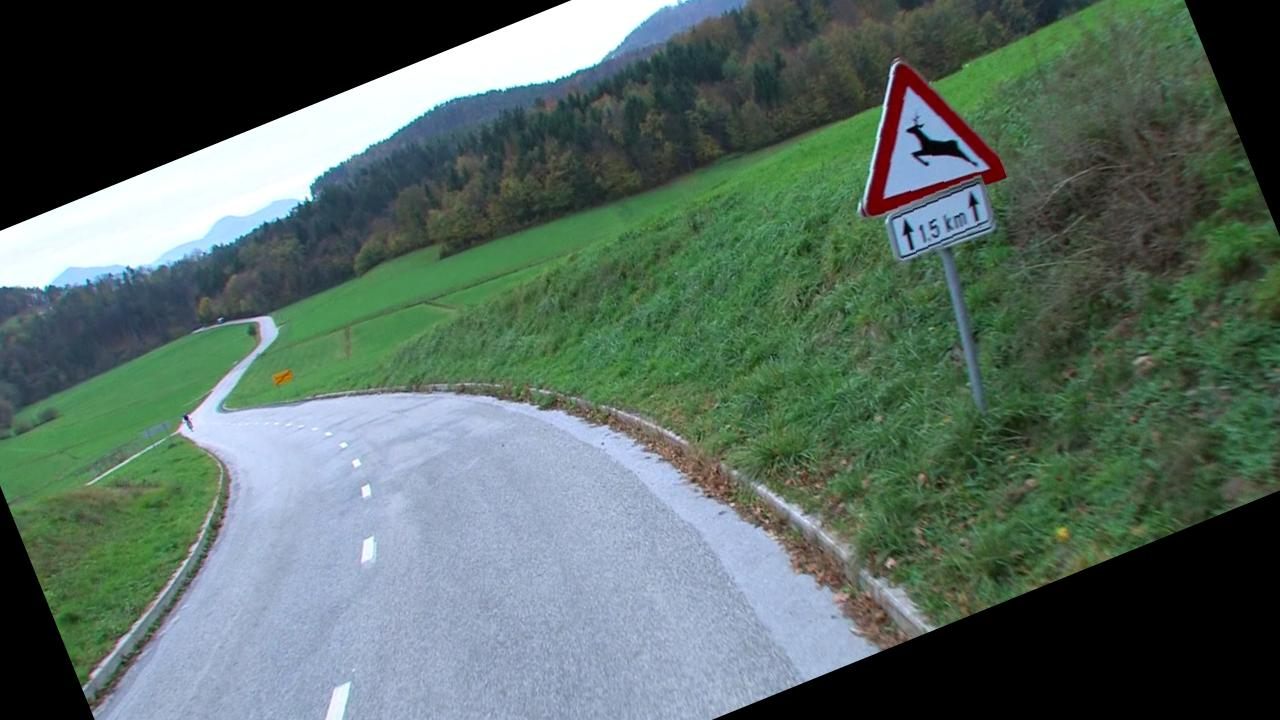Rectangle: (878, 171, 1002, 268)
Triangle: (811, 34, 1008, 234)
